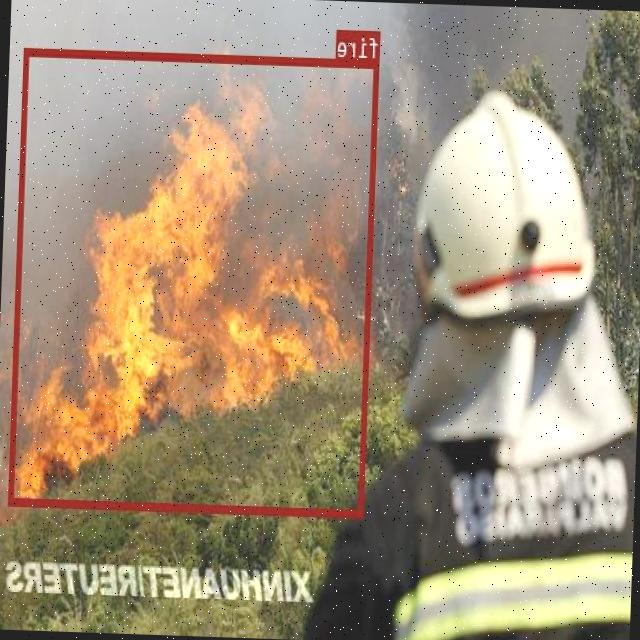fire: (8, 46, 380, 516)
